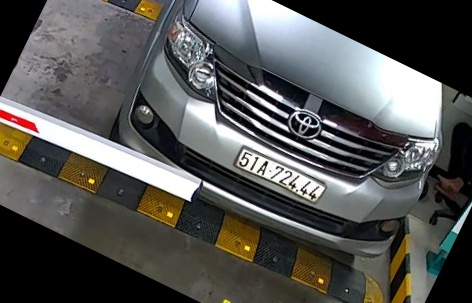plate: (236, 148, 329, 209)
